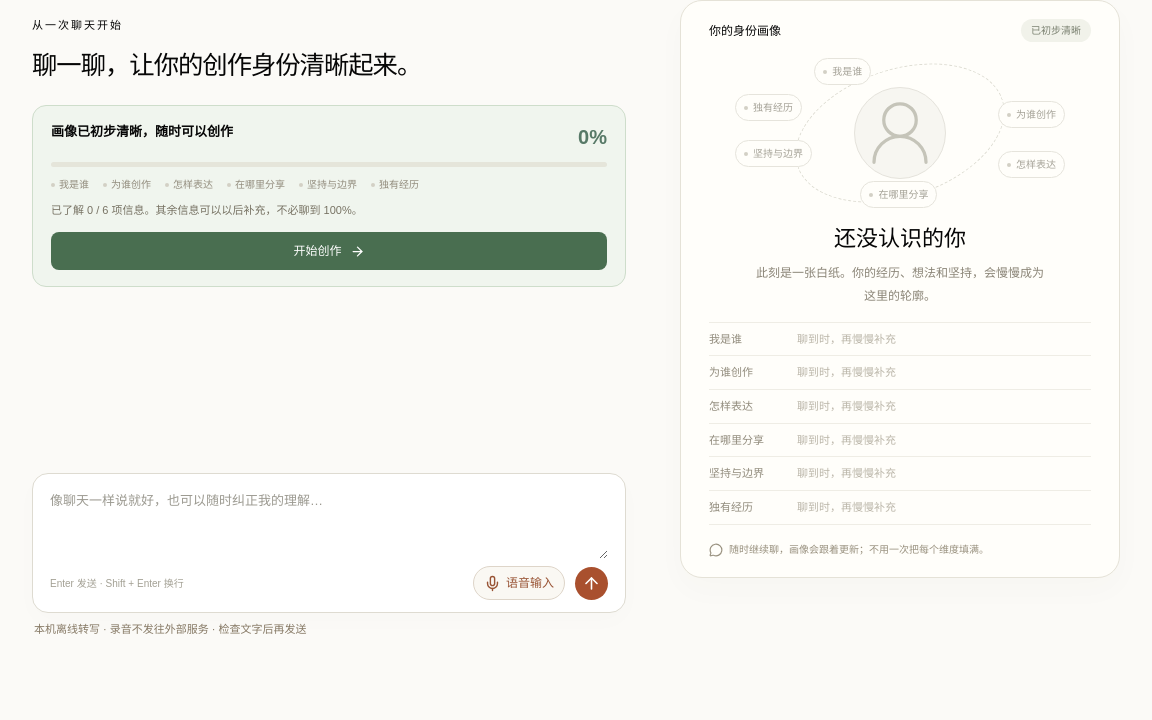
Test case: local voice input › releases the microphone on unmount without uploading the recording
What coordinates should you click on to do the following:
click the button with aria-label "开始语音输入"
I would click on:
 (519, 583)
Its box is [473,566,565,600].
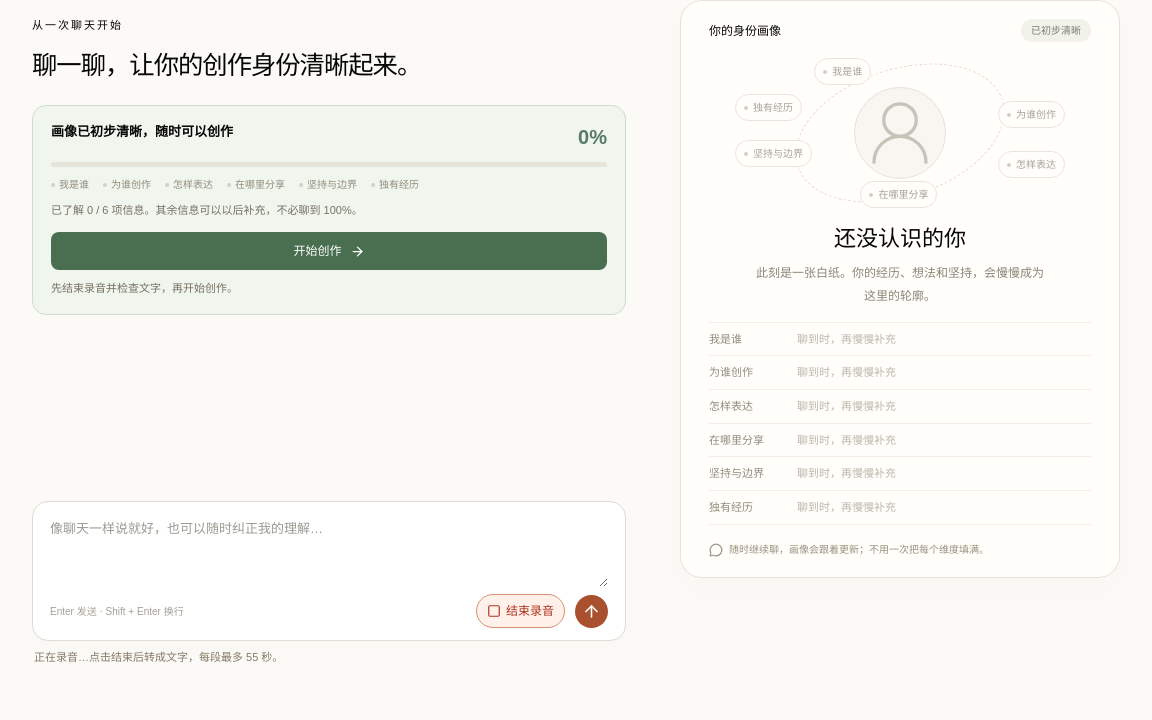
Now the message shows "正在录音", box [34,651,283,663]
